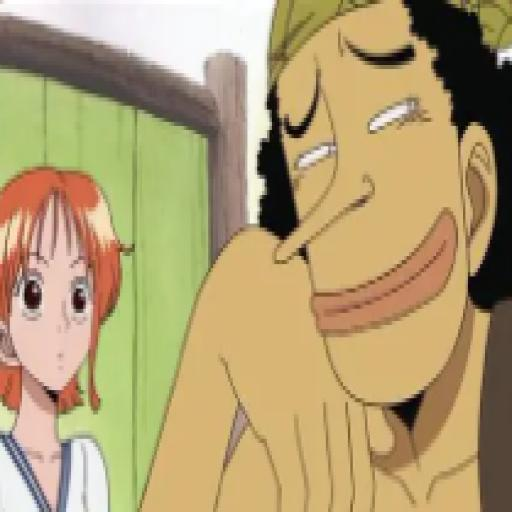Nami: (0, 150, 142, 512)
Usopp: (136, 2, 512, 512)
